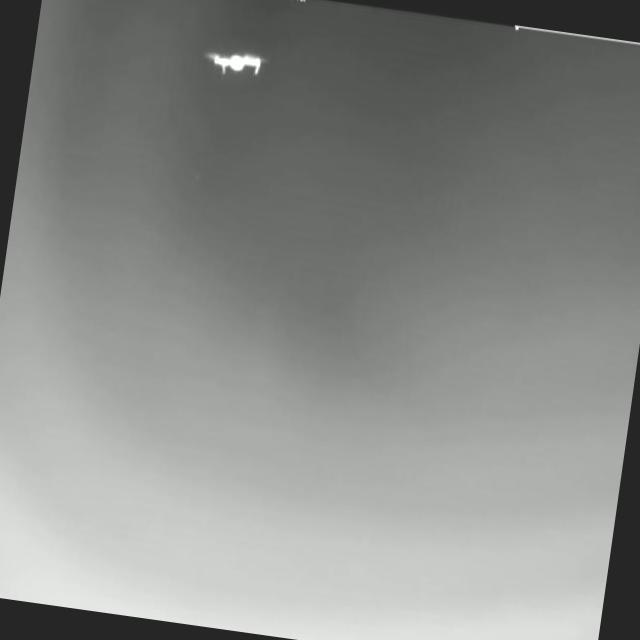DRONE: (198, 44, 271, 81)
